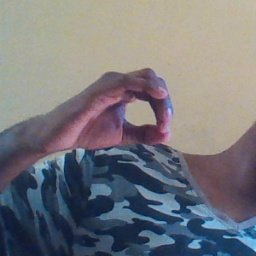O: (58, 62, 173, 154)
